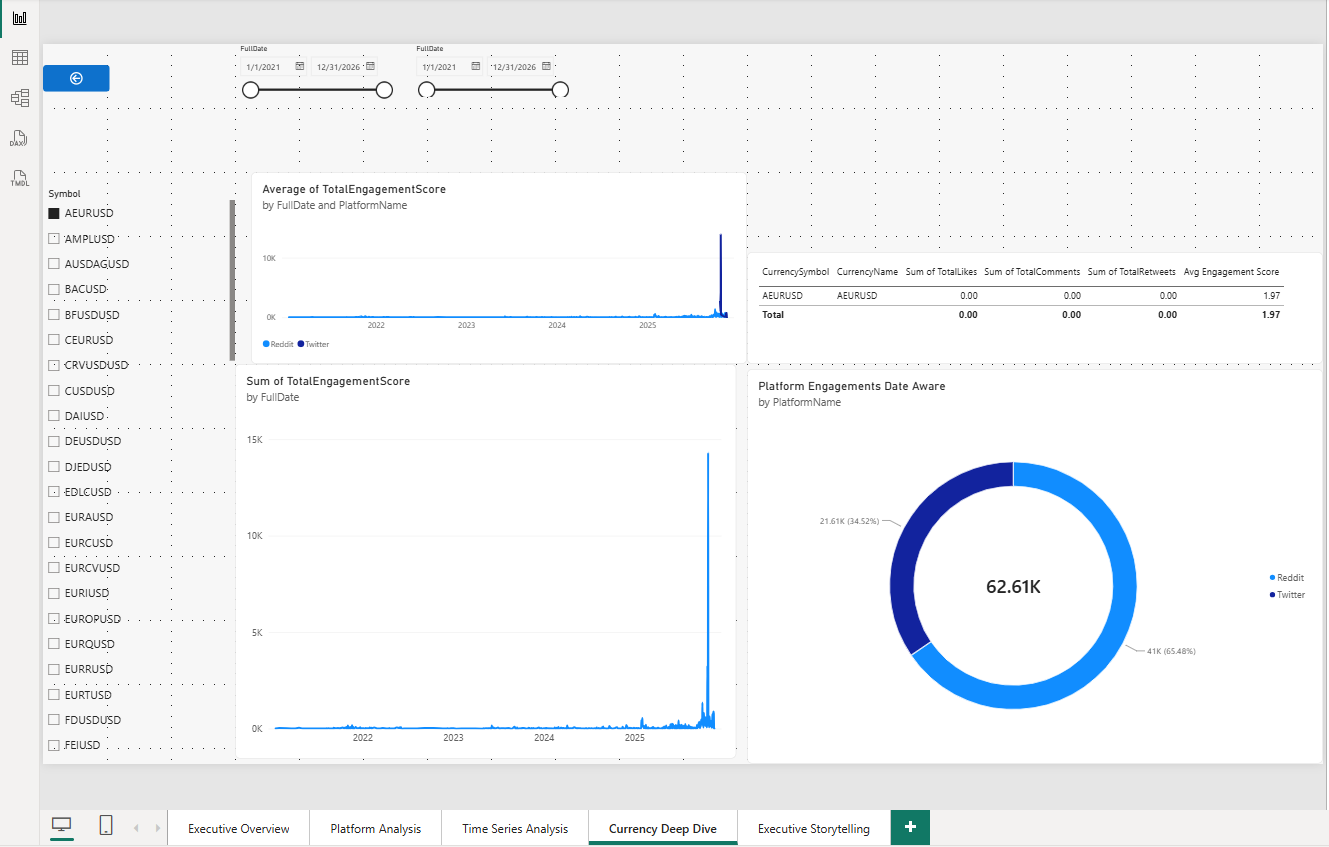

This screenshot's page, from the dashboard's own definition file:
{"tool":"powerbi","page":{"name":"Currency Deep Dive","canvas":[1920,1080],"ordinal":3},"visuals":[{"type":"slicer","fields":{"Values":["dimcurrency.Symbol"]},"box":[0,216,288,864],"z":0},{"type":"lineChart","fields":{"Category":["dimdate.FullDate"],"Y":["Sum(vw_platformdaily.TotalEngagementScore)"]},"box":[288,480,752,592],"z":1000},{"type":"donutChart","fields":{"Category":["vw_platformdaily.PlatformName"],"Y":["KPI Measures.Platform Engagements Date Aware"]},"box":[1056,488,864,592],"z":2000},{"type":"actionButton","box":[0,32,100,40],"z":3000},{"type":"slicer","fields":{"Values":["dimdate.FullDate"]},"box":[288,0,240,96],"z":4000},{"type":"lineChart","fields":{"Category":["vw_platformdaily.FullDate"],"Series":["vw_platformdaily.PlatformName"],"Y":["Avg(vw_platformdaily.TotalEngagementScore)"]},"box":[312,192,744,288],"z":5000},{"type":"slicer","fields":{"Values":["dimdate.FullDate"]},"box":[552,0,240,80],"z":6000},{"type":"tableEx","fields":{"Values":["vw_executivedashboard.CurrencySymbol","vw_executivedashboard.CurrencyName","Sum(vw_executivedashboard.TotalLikes)","Sum(vw_executivedashboard.TotalComments)","Sum(vw_executivedashboard.TotalRetweets)","vw_executivedashboard.Avg Engagement Score"]},"box":[1056,312,864,168],"z":7000}]}

Visuals, with their boxes on the page's 1920x1080 design canvas (x1, y1, x2, y2). These are canvas units, not pixel positions in the 1329x847 screenshot, which may show the page scaled, cropped or inside an application window:
slicer - dimcurrency.Symbol: box=[0, 216, 288, 1080]
lineChart - dimdate.FullDate x Sum(vw_platformdaily.TotalEngagementScore): box=[288, 480, 1040, 1072]
donutChart - vw_platformdaily.PlatformName x KPI Measures.Platform Engagements Date Aware: box=[1056, 488, 1920, 1080]
actionButton: box=[0, 32, 100, 72]
slicer - dimdate.FullDate: box=[288, 0, 528, 96]
lineChart - vw_platformdaily.FullDate x vw_platformdaily.PlatformName: box=[312, 192, 1056, 480]
slicer - dimdate.FullDate: box=[552, 0, 792, 80]
tableEx - vw_executivedashboard.CurrencySymbol x vw_executivedashboard.CurrencyName: box=[1056, 312, 1920, 480]
